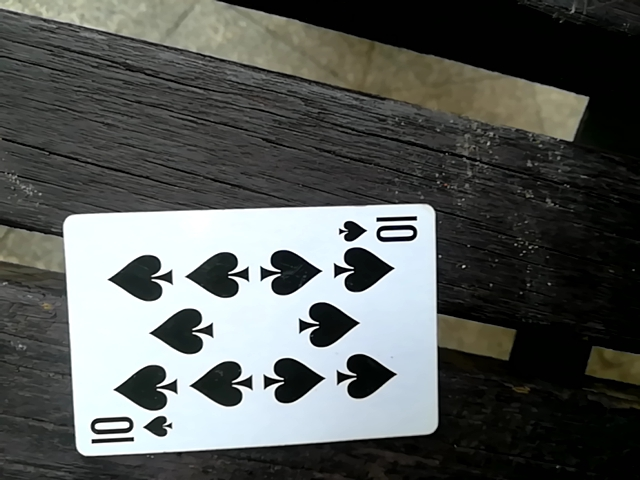ht 10: (65, 201, 444, 462)
